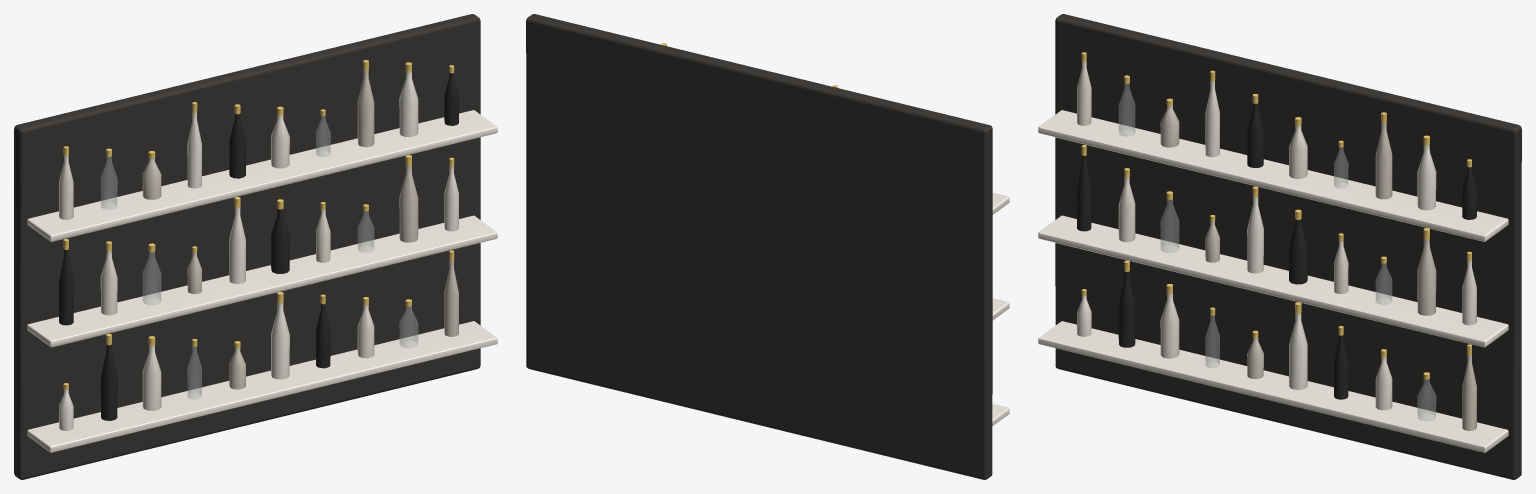
The model's file is product_wall.glb.
The picture shows the model from 3 angles, left to right: view 1: azimuth 30°, elevation 25°; view 2: azimuth 150°, elevation 25°; view 3: azimuth 330°, elevation 25°; orthographic projection.
Parts seen in each view (by area): view 1: product_wall; view 2: product_wall; view 3: product_wall.
Boxes of the visible parts, x1=… form: product_wall: x1=14, y1=14, x2=497, y2=479; product_wall: x1=526, y1=14, x2=1009, y2=479; product_wall: x1=1038, y1=14, x2=1521, y2=479.
Bounding box in the file's own units: 2.06 × 1.5 × 0.2396.
